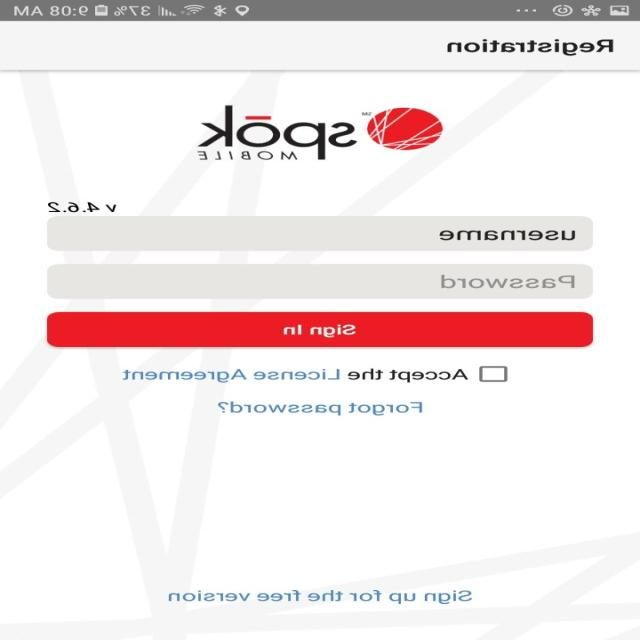BackgroundImage: (1, 70, 640, 640)
EditText: (47, 215, 594, 251), (48, 263, 594, 299)
Image: (196, 104, 444, 160)
Text: (122, 368, 470, 382), (169, 589, 473, 604), (218, 401, 423, 416), (446, 38, 614, 56), (440, 274, 574, 288), (439, 230, 575, 241), (48, 200, 118, 212)
TextButton: (47, 312, 593, 347)
